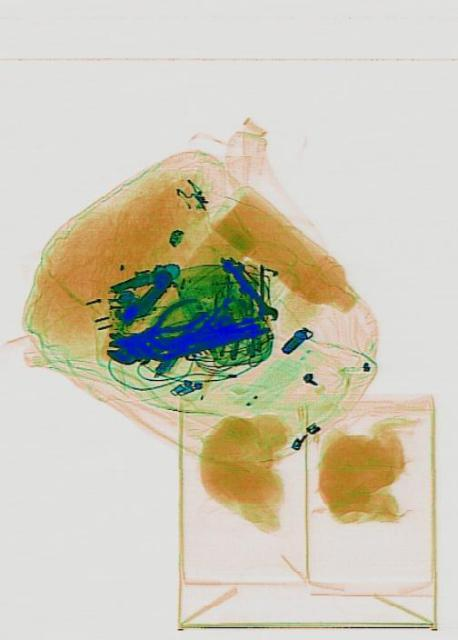Pliers: (140, 290, 206, 346)
Wrench: (103, 310, 230, 366), (217, 250, 279, 330)
